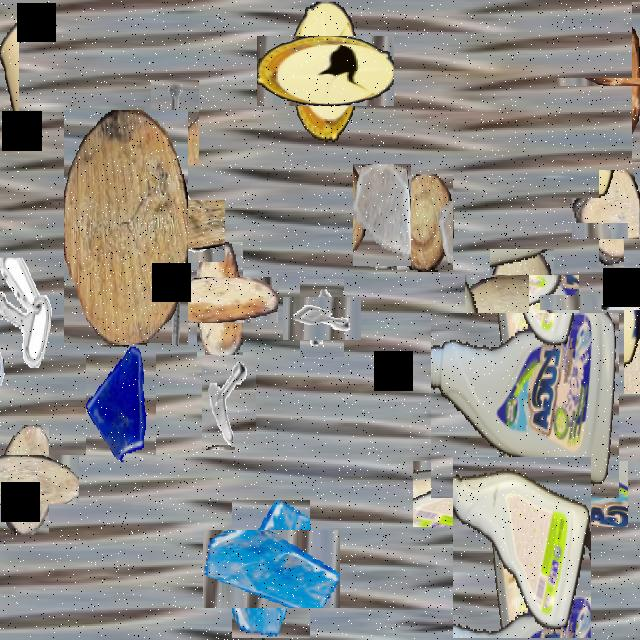glass: (217, 515, 325, 623), (86, 336, 156, 460), (353, 164, 411, 266)
metal: (127, 188, 213, 274), (0, 258, 52, 368), (202, 356, 256, 452), (151, 80, 199, 165), (292, 288, 352, 348), (0, 345, 6, 441)
plastic: (431, 313, 619, 498), (453, 457, 591, 638), (450, 423, 590, 565), (273, 19, 377, 123), (582, 251, 640, 352), (0, 2, 19, 130)
wood: (64, 110, 188, 345), (478, 262, 566, 351), (179, 260, 261, 341), (397, 174, 453, 270), (0, 440, 64, 519), (594, 40, 640, 124), (585, 184, 640, 252)
